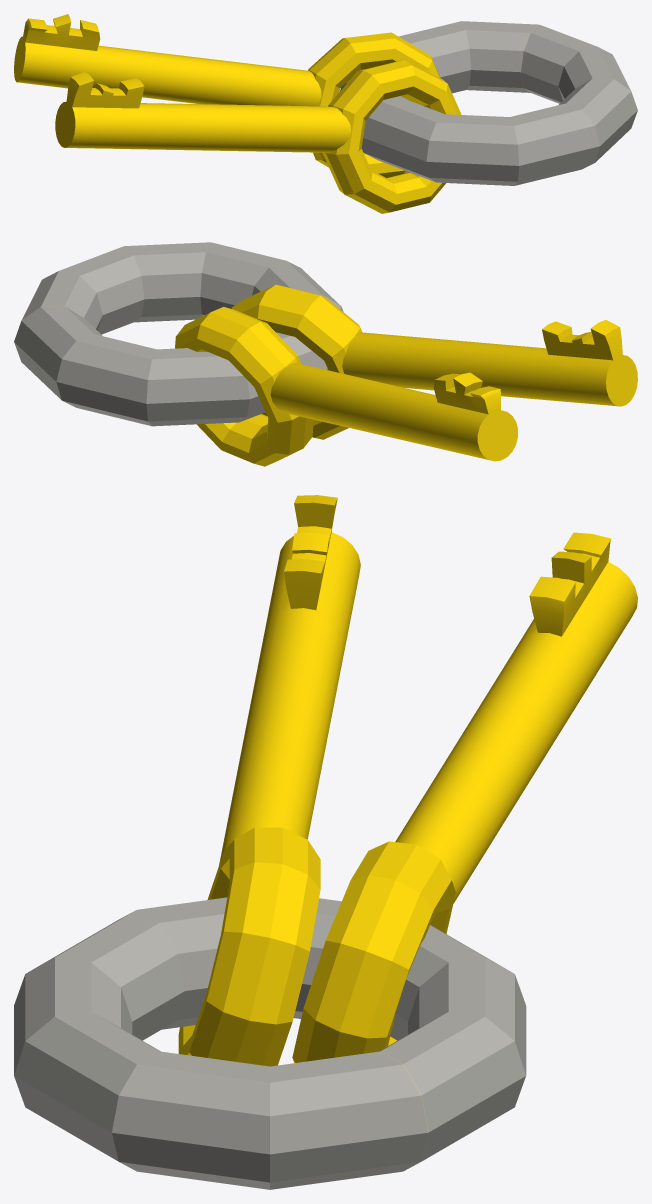
File: KeyRing.fbx
The picture shows the model from 3 angles, top to bottom: view 1: azimuth 30°, elevation 25°; view 2: azimuth 150°, elevation 25°; view 3: azimuth 270°, elevation 25°; orthographic projection. The views are drawn at different scales.
Parts seen in each view (by area): view 1: KeyRing1; view 2: KeyRing1; view 3: KeyRing1.
Part boxes in pixels (x1,y1,x2,y2): KeyRing1: [14, 14, 637, 213]; KeyRing1: [14, 242, 637, 466]; KeyRing1: [14, 495, 637, 1189].
Size of the model in its own units: 27.05 by 8.74 by 15.06.
